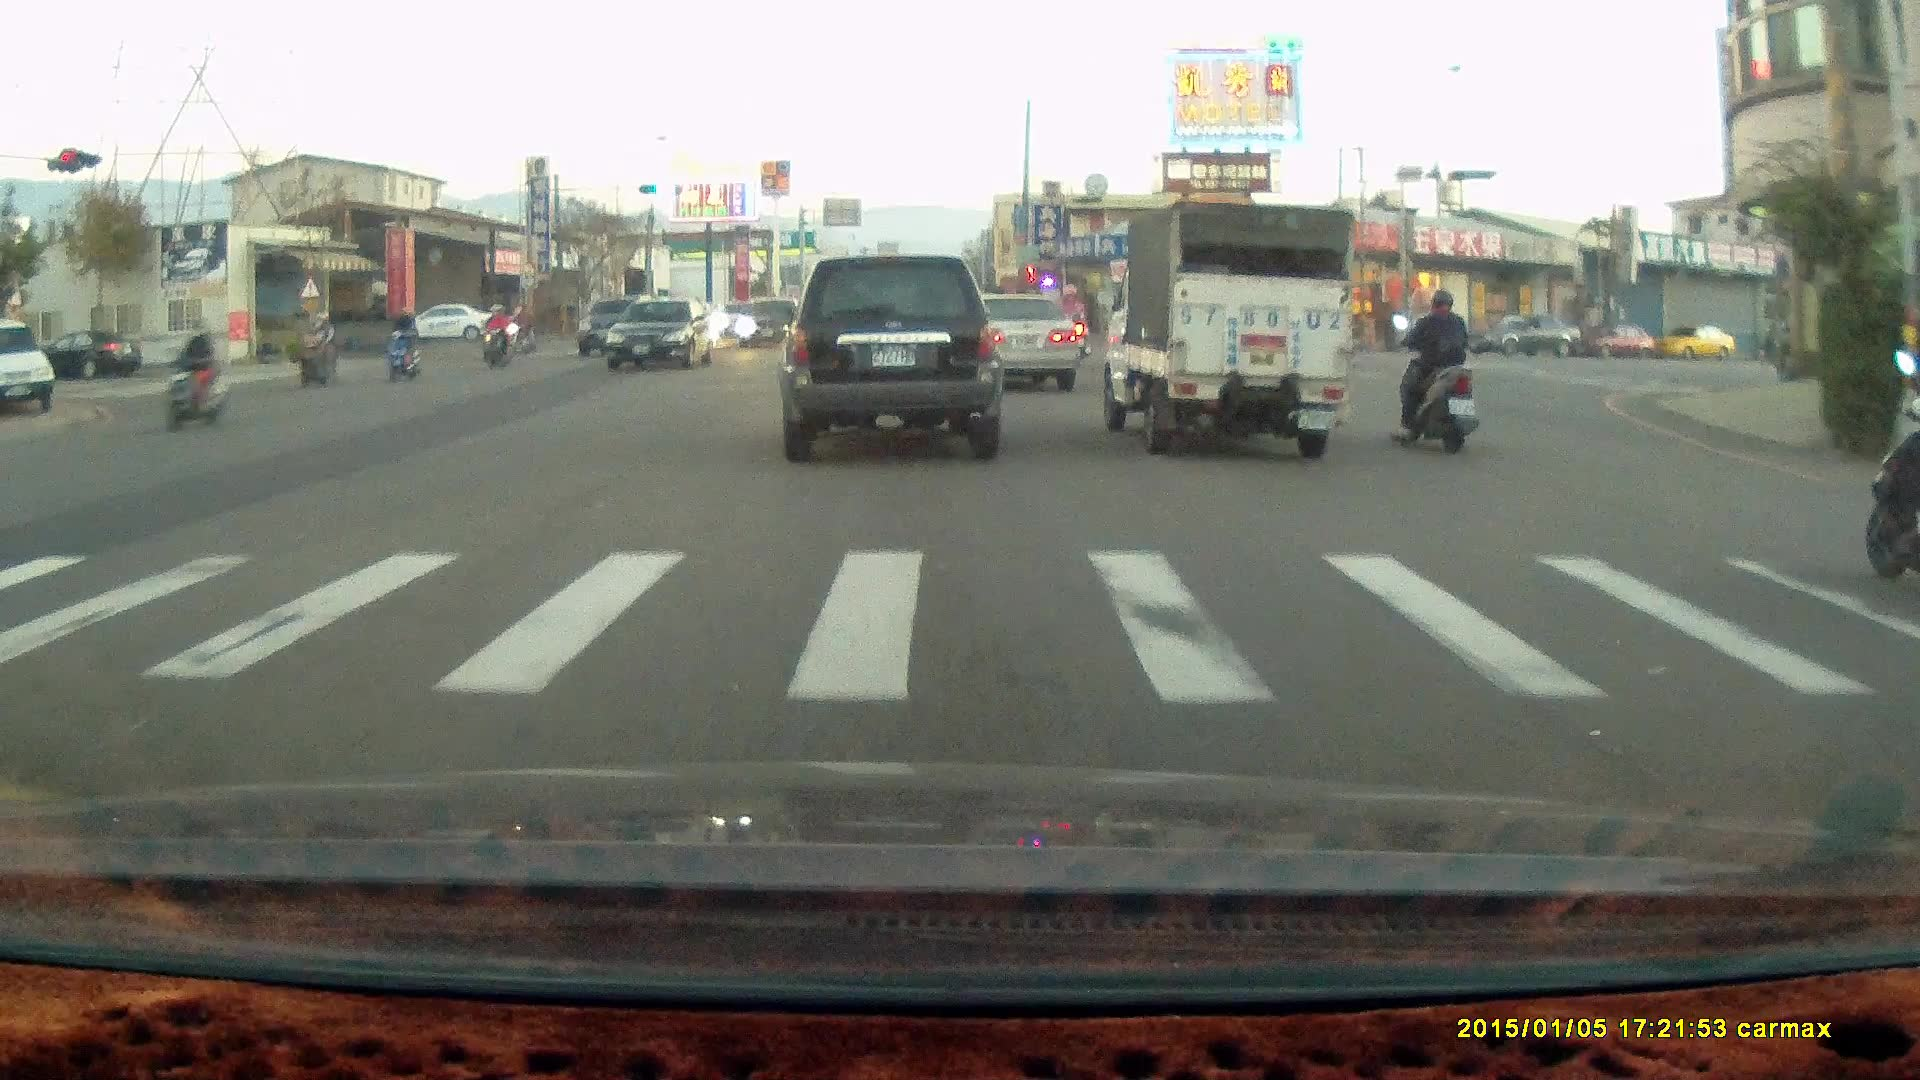rider: (1390, 286, 1481, 453), (1863, 377, 1920, 582), (154, 322, 232, 428), (295, 305, 339, 388), (383, 303, 420, 381), (483, 300, 511, 371)
vehicle: (1093, 200, 1358, 460), (775, 253, 1001, 464), (956, 292, 1081, 392), (961, 291, 1082, 394), (605, 300, 724, 375), (1464, 314, 1584, 361), (1, 314, 57, 413), (733, 295, 799, 352), (416, 303, 498, 344), (1652, 328, 1739, 365), (1578, 322, 1657, 361)
